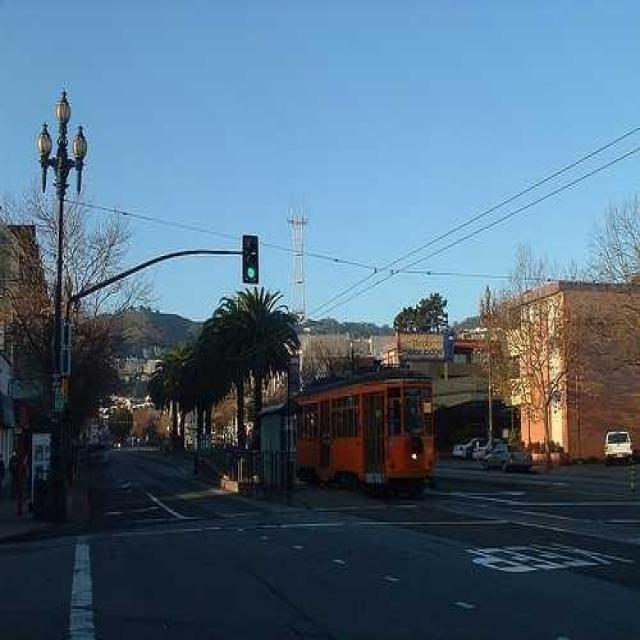Traffic Light -Green-: (239, 234, 261, 283)
